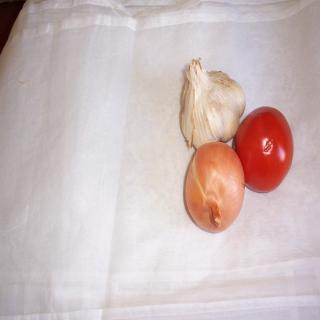tomato: (233, 101, 297, 191)
